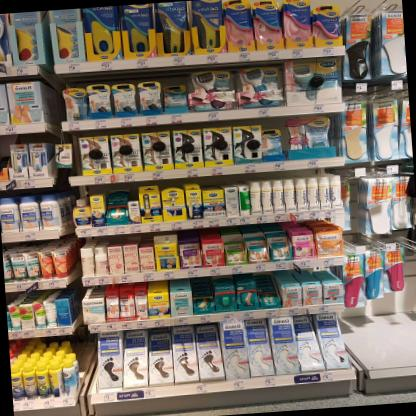empty_space: (364, 303, 408, 367), (401, 240, 416, 311), (404, 303, 416, 367)
